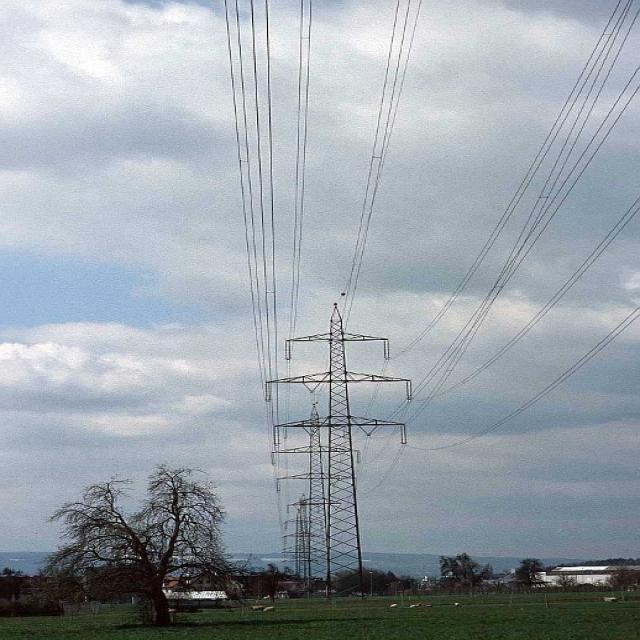non-critical vegetation: (280, 306, 406, 594)
